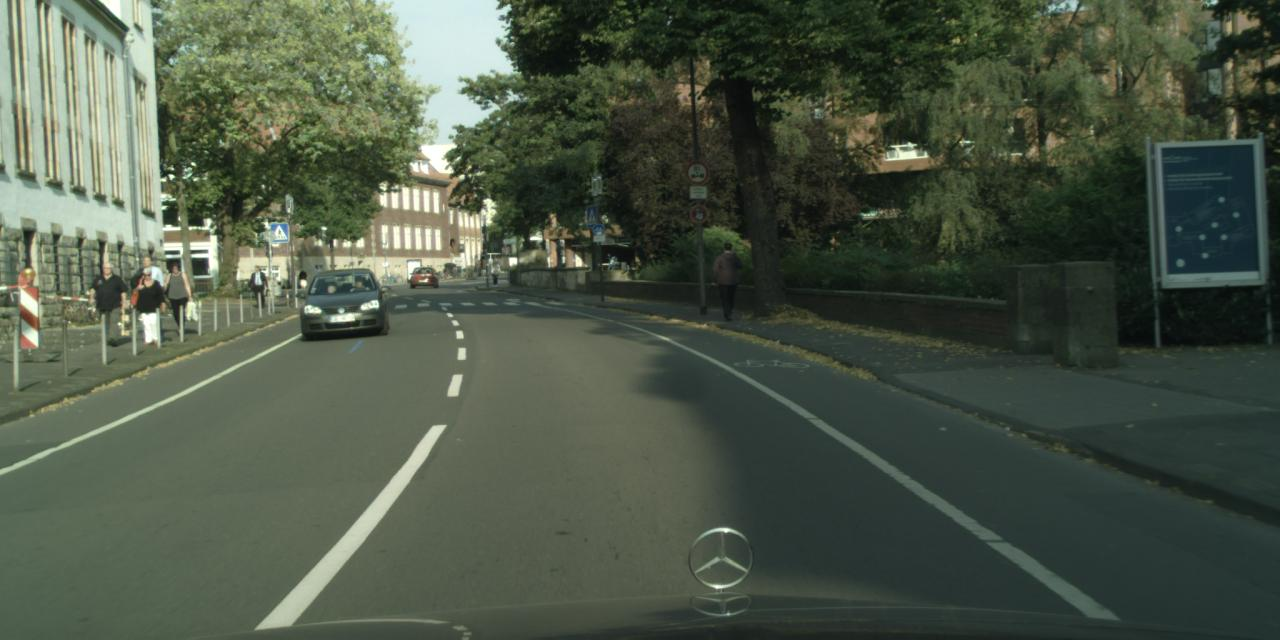ped: (134, 253, 170, 340), (92, 262, 125, 344), (711, 242, 742, 318), (134, 267, 164, 341), (162, 262, 192, 334), (249, 264, 267, 308), (490, 260, 499, 286), (298, 268, 306, 289)
